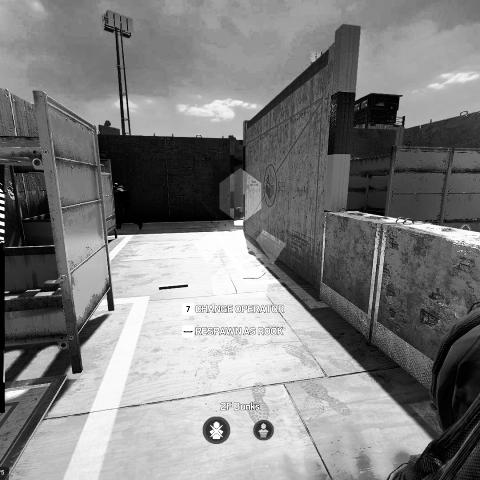Character: (113, 181, 144, 230)
Head: (114, 183, 120, 188)
